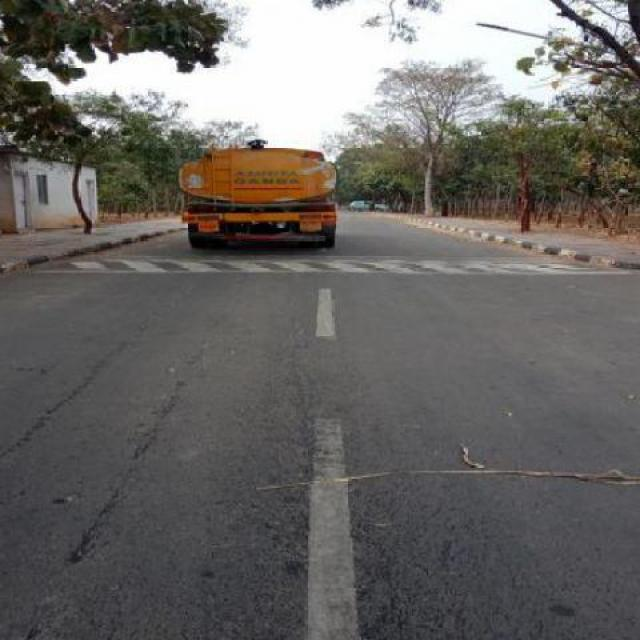Speed Bump: (6, 255, 621, 274)
